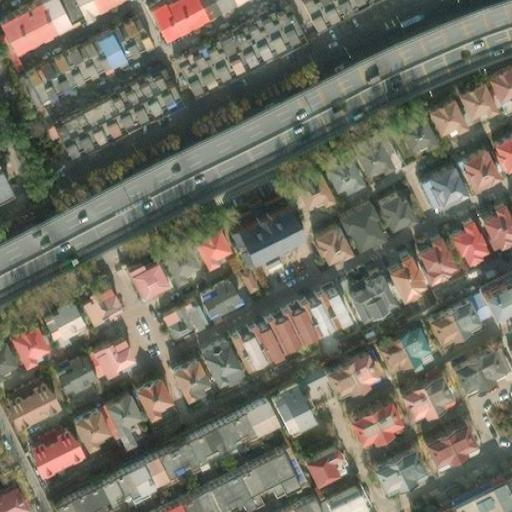building: (36, 63, 175, 163), (181, 447, 301, 512), (16, 40, 97, 104), (142, 0, 237, 44), (81, 12, 146, 69), (234, 211, 300, 267), (154, 428, 218, 481), (208, 402, 274, 453), (414, 160, 468, 213), (109, 456, 166, 503), (366, 314, 425, 359), (24, 432, 78, 479), (100, 391, 143, 449), (47, 478, 119, 512), (316, 342, 370, 386), (451, 145, 499, 194), (32, 296, 80, 345), (266, 382, 311, 434), (393, 109, 441, 157), (453, 80, 500, 127), (424, 94, 470, 142), (350, 131, 396, 178), (337, 207, 383, 253), (152, 238, 197, 285), (127, 377, 172, 424), (85, 336, 133, 380), (284, 164, 328, 211), (448, 480, 512, 512), (443, 225, 486, 271), (348, 405, 396, 446), (424, 428, 472, 469), (373, 452, 421, 493), (400, 382, 448, 423), (452, 354, 500, 395), (379, 257, 421, 303), (117, 260, 163, 302), (425, 299, 473, 339), (343, 279, 386, 322), (157, 299, 201, 340), (74, 284, 119, 324), (198, 342, 238, 387), (413, 241, 453, 285), (167, 360, 208, 402), (195, 278, 238, 318), (187, 223, 226, 267), (318, 150, 356, 194), (372, 193, 411, 235), (68, 408, 104, 453), (280, 308, 316, 348), (311, 225, 346, 266), (228, 334, 263, 374), (302, 451, 342, 486), (51, 358, 88, 393), (301, 299, 333, 337), (248, 326, 279, 364), (265, 318, 295, 356), (318, 293, 346, 329), (238, 268, 265, 298), (273, 494, 317, 512), (328, 490, 362, 512), (0, 482, 24, 512), (0, 167, 16, 202), (151, 497, 188, 512), (497, 474, 512, 510)
